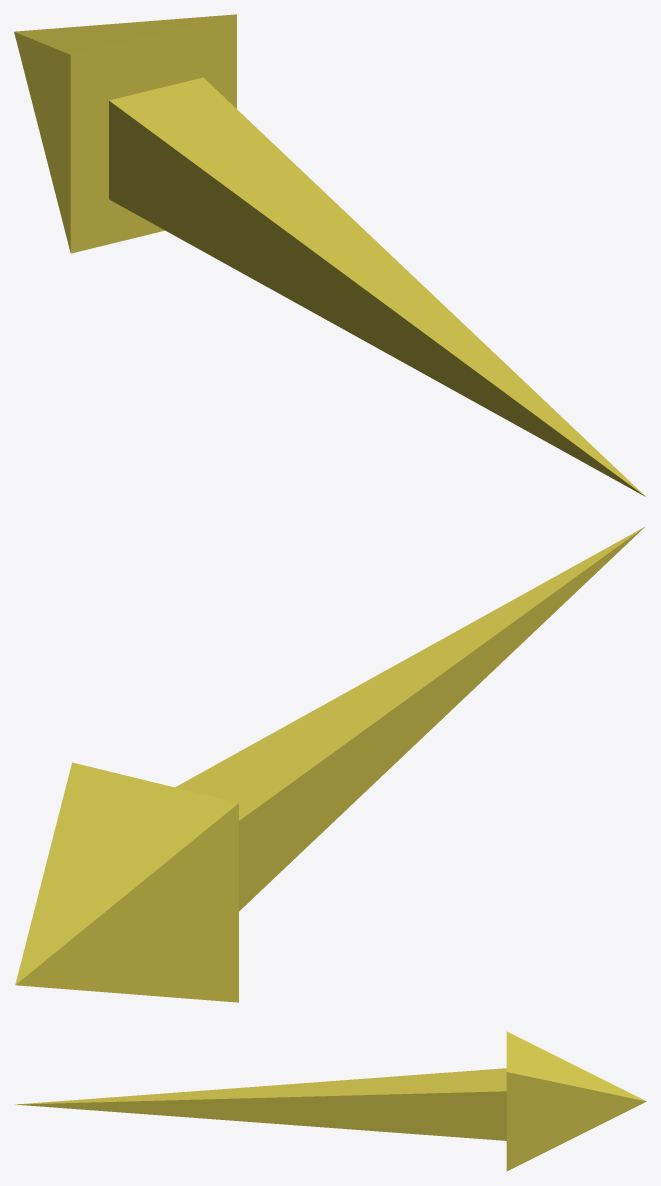
File: PointerArrow.glb
The picture shows the model from 3 angles, top to bottom: view 1: azimuth 30°, elevation 25°; view 2: azimuth 150°, elevation 25°; view 3: azimuth 270°, elevation 25°; orthographic projection. The views are drawn at different scales.
Visible parts, largest first — view 1: Mesh_Mesh_head_geo.001_lambert2SG.001; view 2: Mesh_Mesh_head_geo.001_lambert2SG.001; view 3: Mesh_Mesh_head_geo.001_lambert2SG.001.
Part boxes in pixels (x1,y1,x2,y2): Mesh_Mesh_head_geo.001_lambert2SG.001: [14, 14, 645, 496]; Mesh_Mesh_head_geo.001_lambert2SG.001: [15, 527, 644, 1002]; Mesh_Mesh_head_geo.001_lambert2SG.001: [15, 1031, 646, 1171].
Bounding box in the file's own units: 35 × 40 × 230.
